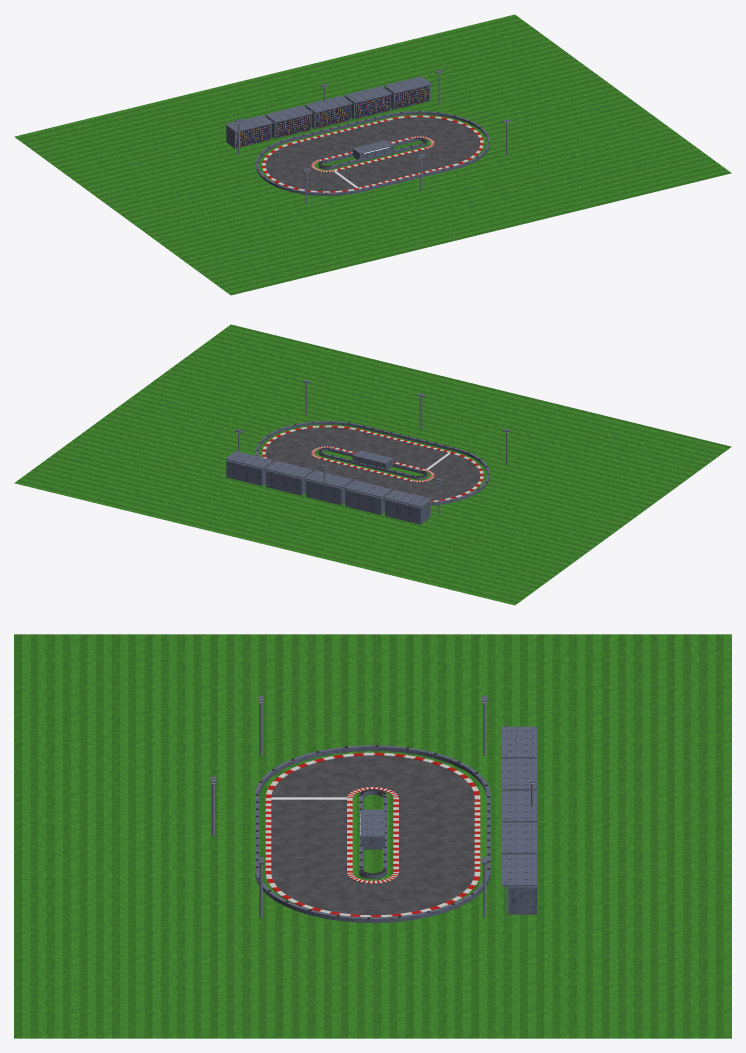
The model's file is track.glb.
3 renders of one model, top to bottom at view 1: azimuth 30°, elevation 25°; view 2: azimuth 150°, elevation 25°; view 3: azimuth 270°, elevation 25°, orthographic. The views are drawn at different scales.
Parts seen in each view (by area): view 1: track; view 2: track; view 3: track.
Boxes of the visible parts, x1,y1,x2,y2 form: track: (14, 14, 731, 295); track: (14, 324, 731, 605); track: (14, 634, 731, 1038).
Bounding box in the file's own units: 120 × 7.93 × 90.
10 materials, 6 textured.
